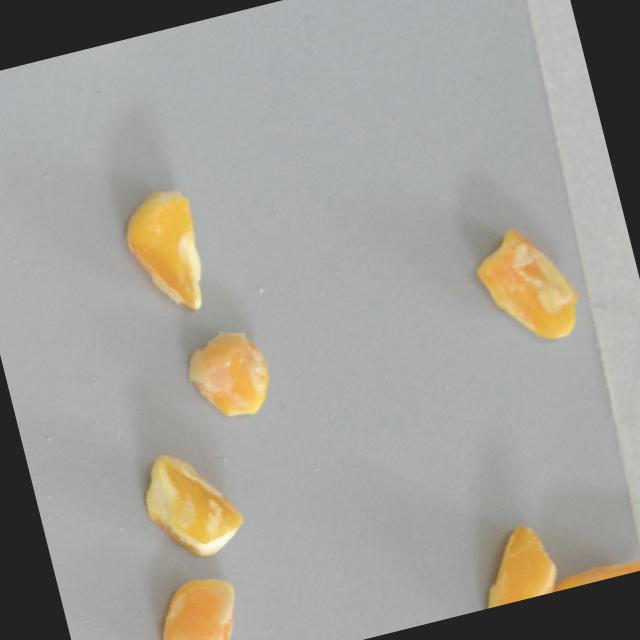pelicula: (465, 212, 587, 354), (132, 439, 251, 568), (116, 183, 216, 323), (178, 322, 279, 427), (458, 516, 563, 611), (147, 568, 250, 640), (540, 553, 640, 594)
